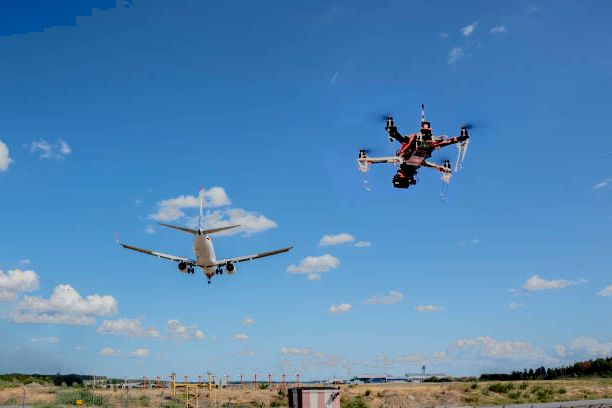Drone: (348, 95, 472, 191)
